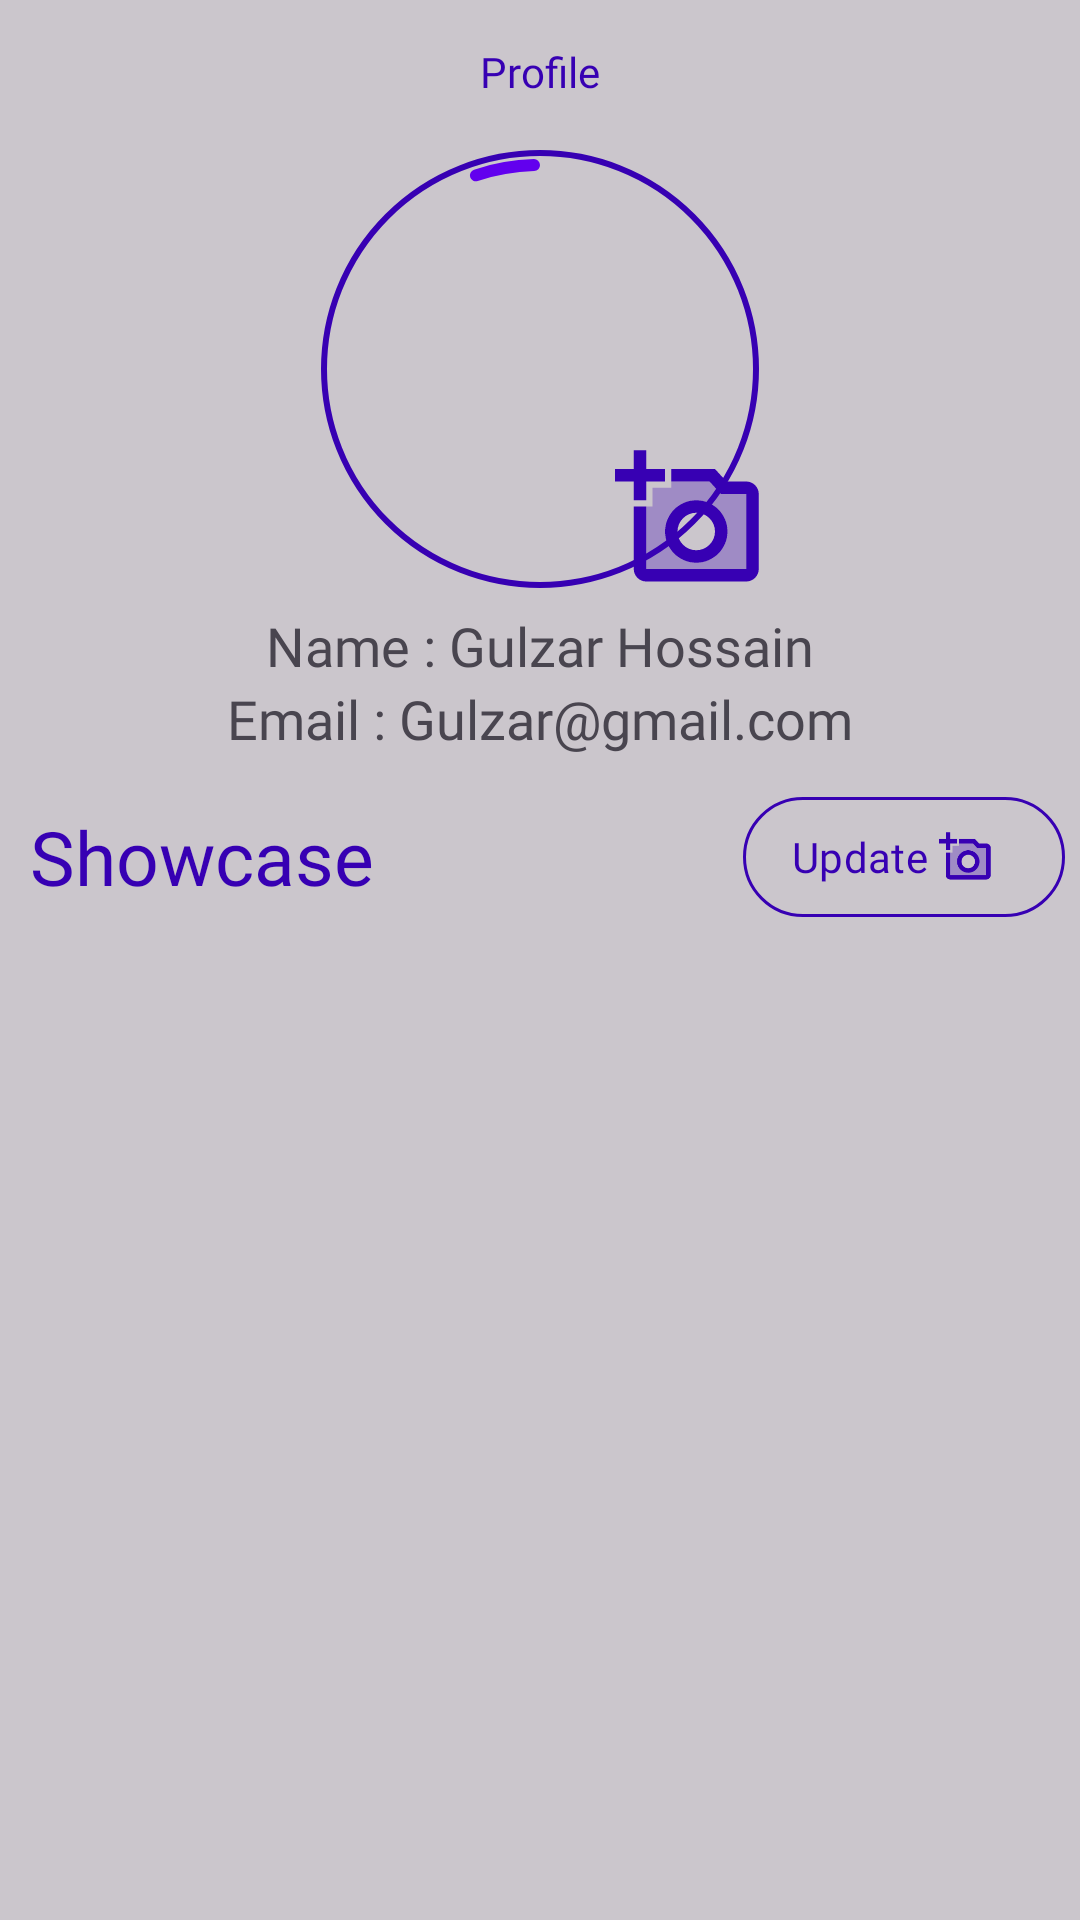

Icons on this 1080×1920 Android screen, each with the point to tap as point (x, y):
add photo: point (687, 513)
